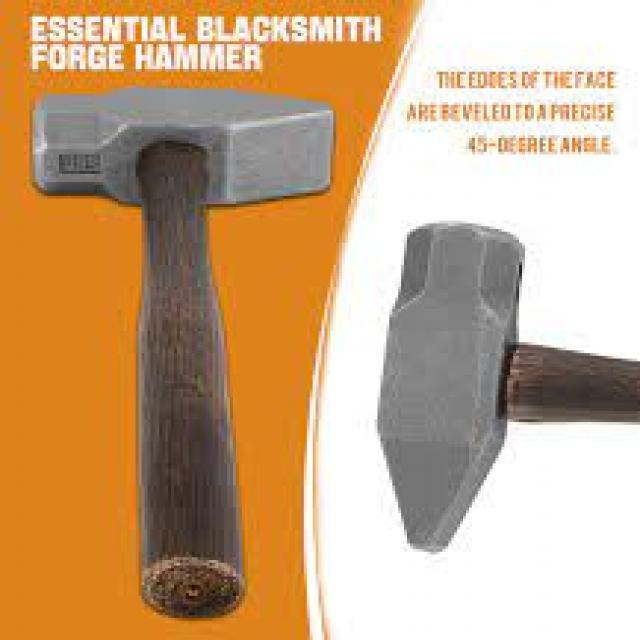hammer: (26, 72, 336, 629), (374, 213, 640, 564)
